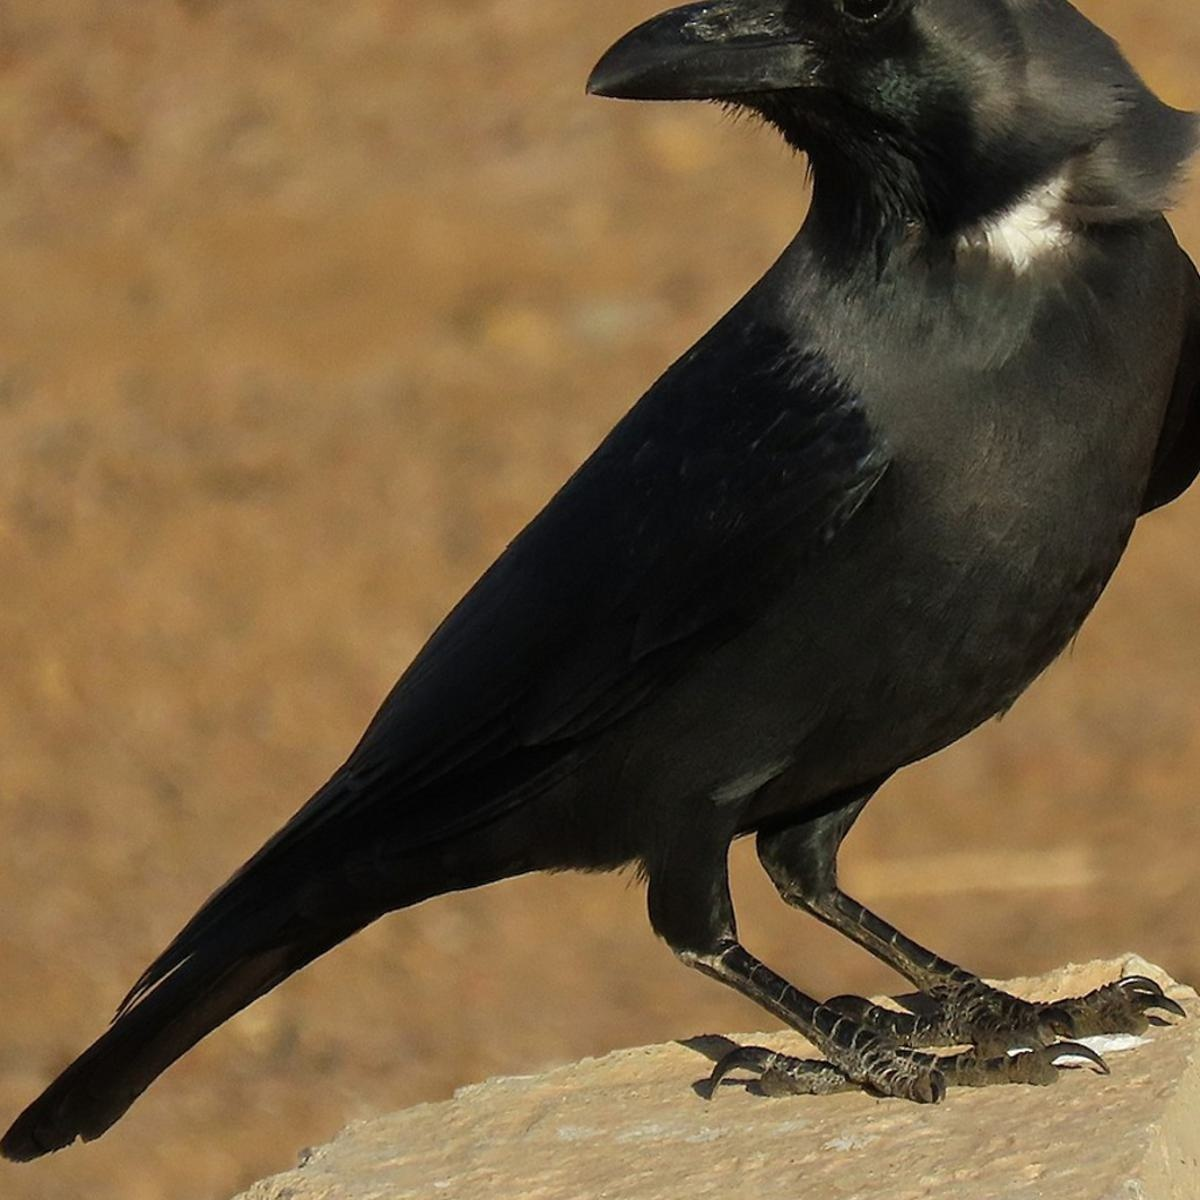crow: (56, 1, 1181, 1143)
